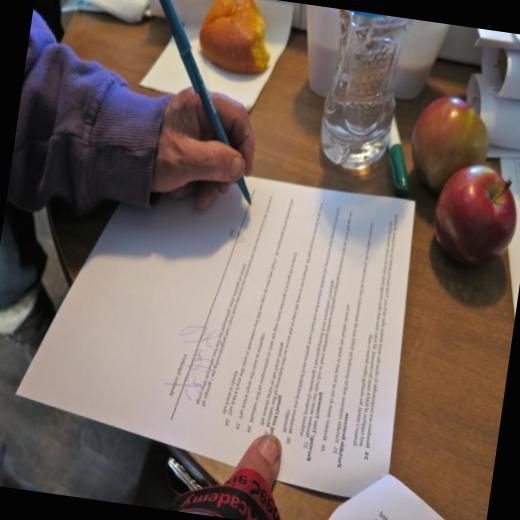Apple: (431, 155, 520, 278), (402, 87, 495, 201)
